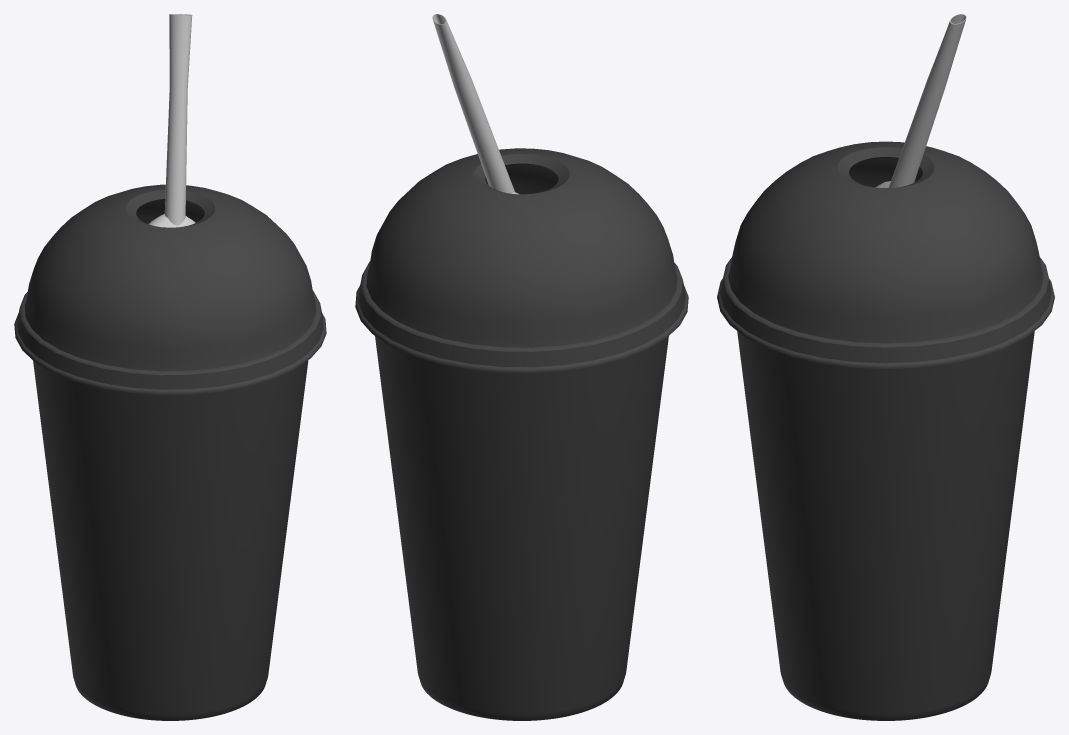
3 views of the same model, side by side, from view 1: azimuth 30°, elevation 25°; view 2: azimuth 150°, elevation 25°; view 3: azimuth 270°, elevation 25° (orthographic). The views are drawn at different scales.
Visible parts, largest first — view 1: Cup_l, Cap_l, Straw_l; view 2: Cup_l, Cap_l, Straw_l; view 3: Cup_l, Cap_l, Straw_l.
Boxes of the visible parts, x1,y1,x2,y2 form: Cup_l: [33, 360, 308, 720]; Cap_l: [14, 184, 326, 395]; Straw_l: [164, 14, 192, 225]; Cup_l: [375, 336, 668, 720]; Cap_l: [355, 148, 688, 373]; Straw_l: [432, 14, 514, 193]; Cup_l: [737, 331, 1034, 720]; Cap_l: [717, 141, 1054, 369]; Straw_l: [888, 14, 966, 187].
Bounding box in the file's own units: 0.0938 × 0.2095 × 0.0938.
